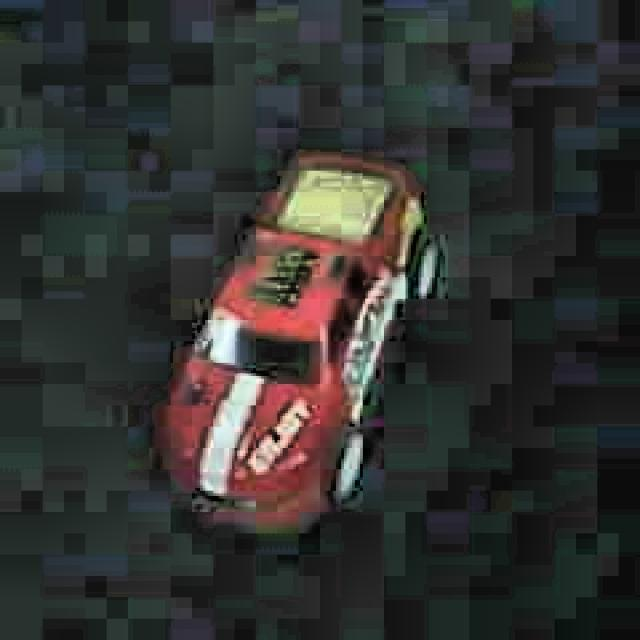car: (142, 146, 445, 532)
